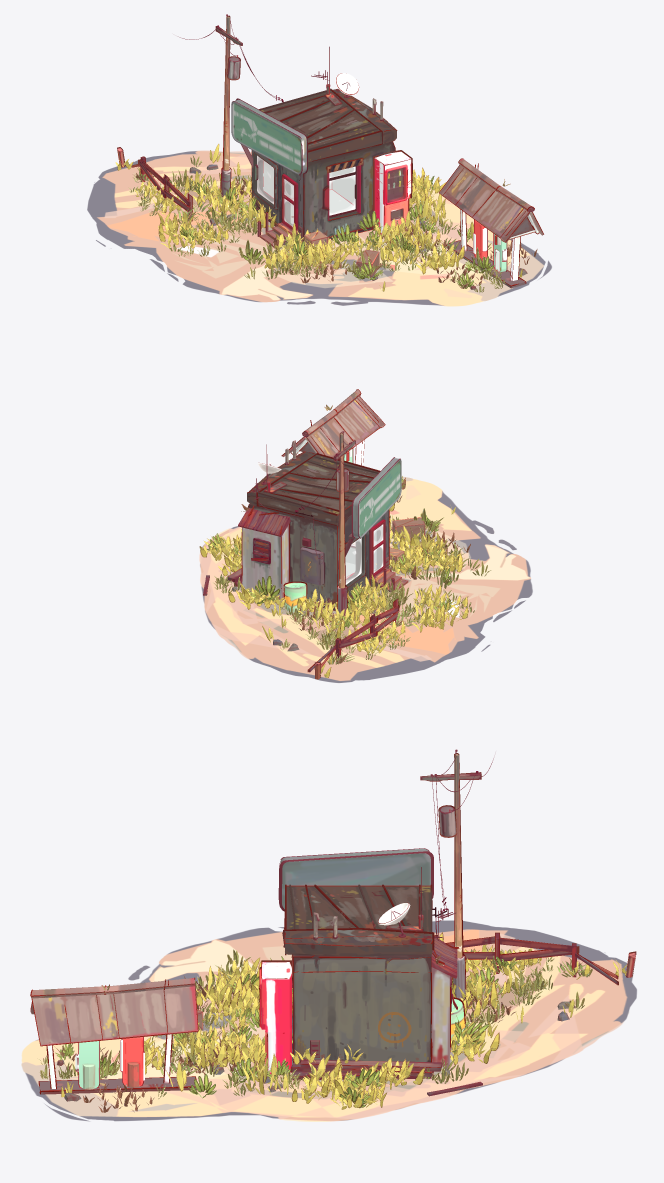
The picture shows the model from 3 angles, top to bottom: view 1: azimuth 30°, elevation 25°; view 2: azimuth 150°, elevation 25°; view 3: azimuth 270°, elevation 25°; orthographic projection. The views are drawn at different scales.
Visible parts, largest first — view 1: Plane.007_0, Plane.174_10, Cube.012_3, Cube_2, Cube.002_6, Cube.018_7, Cube.001_4, Cube.003_5; view 2: Plane.007_0, Cube.012_3, Plane.174_10, Cube_2, Cube.018_7, Cube.002_6, Cube.001_4; view 3: Plane.007_0, Cube.012_3, Cube_2, Plane.174_10, Cube.018_7.
Boxes of the visible parts, x1=… form: Plane.007_0: x1=87, y1=150, x2=551, y2=306; Plane.174_10: x1=115, y1=143, x2=537, y2=292; Cube.012_3: x1=117, y1=14, x2=543, y2=289; Cube_2: x1=252, y1=88, x2=396, y2=241; Cube.002_6: x1=232, y1=103, x2=355, y2=224; Cube.018_7: x1=117, y1=16, x2=543, y2=287; Cube.001_4: x1=257, y1=155, x2=355, y2=226; Cube.003_5: x1=387, y1=167, x2=405, y2=220; Plane.007_0: x1=199, y1=476, x2=532, y2=682; Cube.012_3: x1=203, y1=389, x2=427, y2=679; Plane.174_10: x1=199, y1=404, x2=491, y2=677; Cube_2: x1=247, y1=452, x2=391, y2=610; Cube.018_7: x1=228, y1=389, x2=408, y2=678; Cube.002_6: x1=345, y1=460, x2=400, y2=578; Cube.001_4: x1=345, y1=524, x2=383, y2=584; Plane.007_0: x1=21, y1=914, x2=637, y2=1121; Cube.012_3: x1=31, y1=749, x2=635, y2=1101; Cube_2: x1=282, y1=884, x2=434, y2=1072; Plane.174_10: x1=39, y1=932, x2=627, y2=1112; Cube.018_7: x1=30, y1=753, x2=636, y2=1094.
Bounding box in the file's own units: 2.23 × 1.05 × 2.33.
